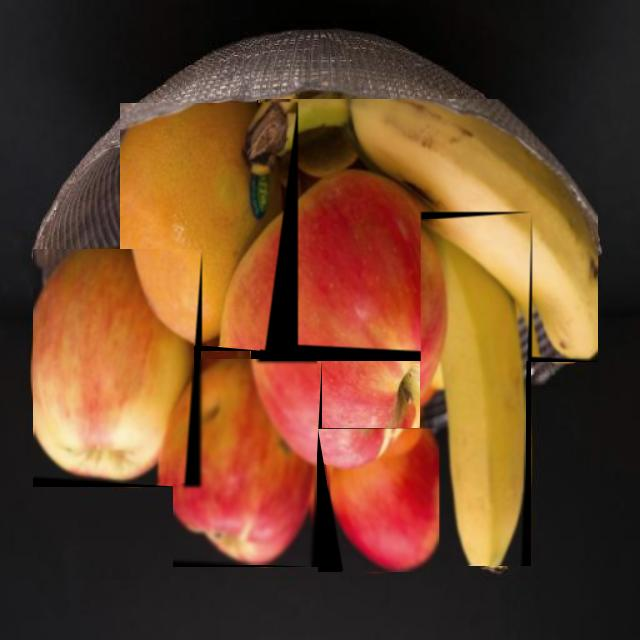Apple: (262, 186, 449, 466), (34, 250, 193, 483), (173, 359, 317, 565), (328, 429, 438, 571)
Banana: (260, 100, 597, 361), (421, 219, 525, 565)
Orange: (121, 103, 285, 346)
